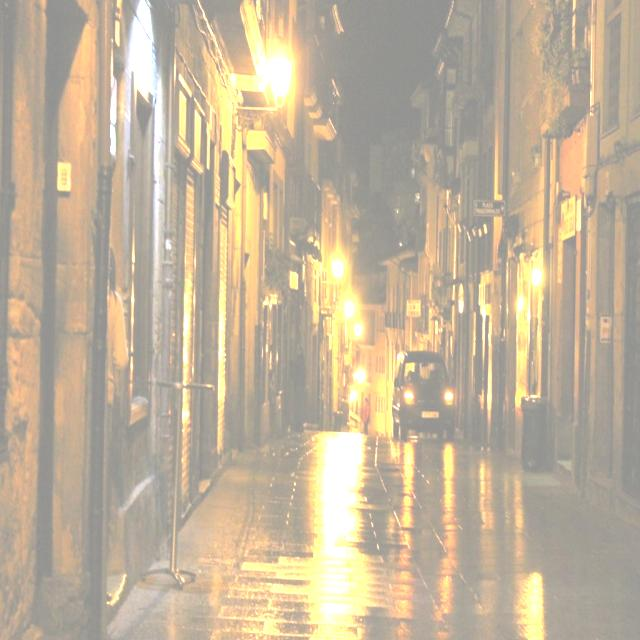Car: (389, 346, 460, 442)
